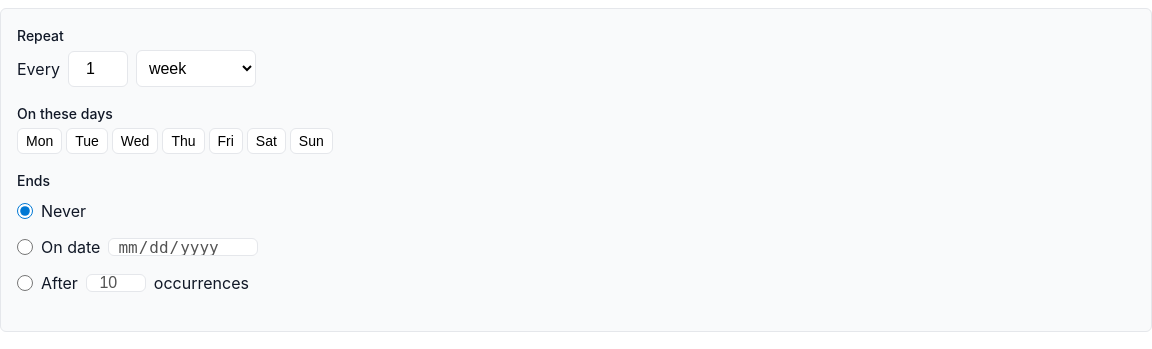
RecurrenceSelector › end options › should enable date input when end type is date
Step 1. Click the radio button labelled "On date" → (25, 247), box [17,239,33,255]
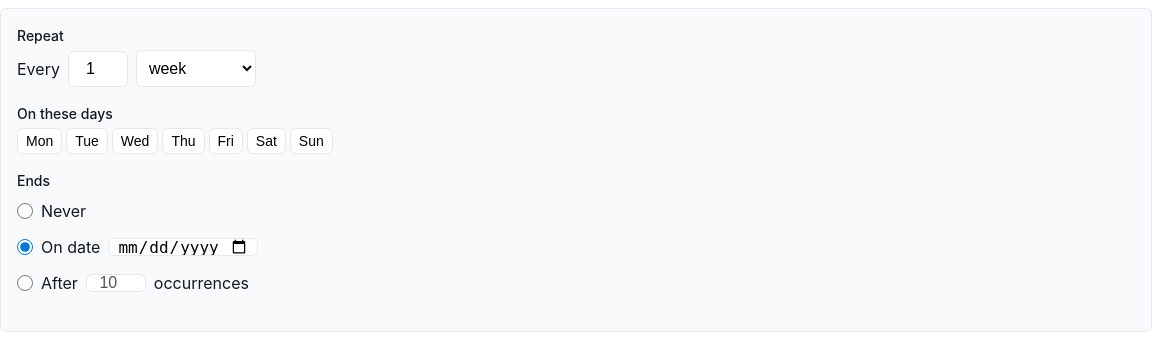
Result: the date field with class "date-input" is enabled at [108,238,258,256]
